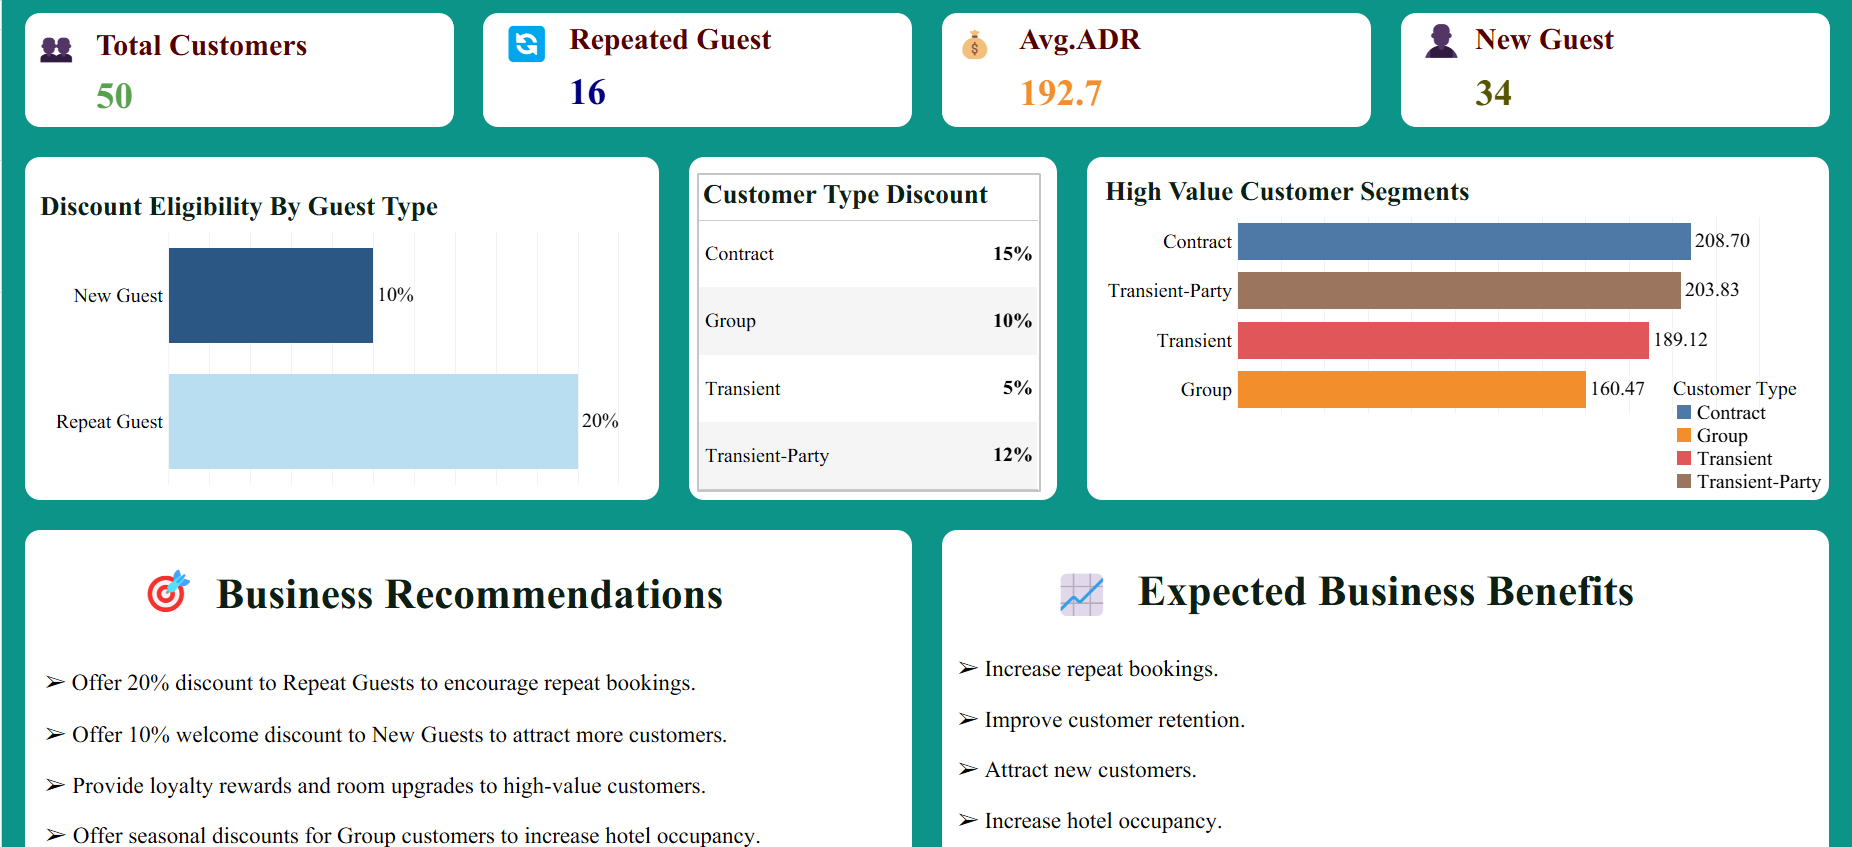

Layout of this report page (visuals, bound fields, positions):
{"tool":"tableau","page":{"name":"Dashboard 2","canvas":[1850,1050],"ordinal":1},"visuals":[{"type":"blank","box":[8,8,473,137]},{"type":"blank","box":[481,8,444,137]},{"type":"blank","box":[925,8,458.5,137]},{"type":"blank","box":[1383.5,8,458.5,137]},{"type":"worksheet","title":"New Guest","mark":"Automatic","box":[1037,33,317,86]},{"type":"text","box":[516,34,100,50]},{"type":"worksheet","title":"Repeated Guest","mark":"Automatic","box":[577,34,256,79]},{"type":"text","box":[967,34,100,50]},{"type":"text","box":[1416,34,100,50]},{"type":"worksheet","title":"Avg.ADR","mark":"Automatic","box":[1488,35,234,78]},{"type":"text","box":[40,37,100,50]},{"type":"worksheet","title":"Total Customers","mark":"Automatic","box":[110,38,329,78]},{"type":"blank","box":[8,145,458.5,535]},{"type":"blank","box":[466.5,145,388.5,535]},{"type":"blank","box":[855,145,551,535]},{"type":"blank","box":[1406,145,436,535]},{"type":"worksheet","title":"ADR by Customer Type","mark":"Bar","rows":["adr"],"cols":["customer_type"],"box":[884,166,494,488]},{"type":"worksheet","title":"Repeated Guest VS New Guest","mark":"Pie","cols":["Calculation_3089676992122880","Calculation_3089676992122880"],"box":[483,169,345,474]},{"type":"worksheet","title":"Customer Id by Customer Type","mark":"Automatic","rows":["customer_type"],"cols":["customer_id"],"box":[29,174,415,479]},{"type":"worksheet","title":"Top 5 Customers","mark":"Automatic","rows":["customer_name"],"box":[1438,179,378,472]},{"type":"legend","title":"Customer Id by Customer Type","param":"[federated.1m8f3m612l10m31ctnk851wsdk5s].[none:customer_type:nk]","box":[295,557,140,98]},{"type":"legend","title":"Repeated Guest VS New Guest","param":"[federated.1m8f3m612l10m31ctnk851wsdk5s].[none:Calculation_2995668349882368:nk]","box":[644,565,140,75]},{"type":"blank","box":[8,680,917,362]},{"type":"blank","box":[925,680,917,362]},{"type":"worksheet","title":"Customers by country ","mark":"Automatic","box":[41,701,857,319]},{"type":"worksheet","title":"Country Wise Bookings","mark":"Automatic","rows":["country"],"cols":["booking_id"],"box":[945,706,755,312]},{"type":"legend","title":"Country Wise Bookings","param":"[federated.1m8f3m612l10m31ctnk851wsdk5s].[none:country:nk]","box":[1678,709,140,238]},{"type":"legend","title":"Customers by country ","param":"[federated.1m8f3m612l10m31ctnk851wsdk5s].[cnt:customer_id:qk]","box":[728,936,163,72]}]}

Visuals, with their boxes on the page's 1850x1050 design canvas (x1, y1, x2, y2). These are canvas units, not pixel positions in the 1852x847 screenshot, which may show the page scaled, cropped or inside an application window:
blank: x1=8 y1=8 x2=481 y2=145
blank: x1=481 y1=8 x2=925 y2=145
blank: x1=925 y1=8 x2=1384 y2=145
blank: x1=1384 y1=8 x2=1842 y2=145
"New Guest" worksheet: x1=1037 y1=33 x2=1354 y2=119
text: x1=516 y1=34 x2=616 y2=84
"Repeated Guest" worksheet: x1=577 y1=34 x2=833 y2=113
text: x1=967 y1=34 x2=1067 y2=84
text: x1=1416 y1=34 x2=1516 y2=84
"Avg.ADR" worksheet: x1=1488 y1=35 x2=1722 y2=113
text: x1=40 y1=37 x2=140 y2=87
"Total Customers" worksheet: x1=110 y1=38 x2=439 y2=116
blank: x1=8 y1=145 x2=466 y2=680
blank: x1=466 y1=145 x2=855 y2=680
blank: x1=855 y1=145 x2=1406 y2=680
blank: x1=1406 y1=145 x2=1842 y2=680
"ADR by Customer Type" worksheet (Bar marks): x1=884 y1=166 x2=1378 y2=654
"Repeated Guest VS New Guest" worksheet (Pie marks): x1=483 y1=169 x2=828 y2=643
"Customer Id by Customer Type" worksheet: x1=29 y1=174 x2=444 y2=653
"Top 5 Customers" worksheet: x1=1438 y1=179 x2=1816 y2=651
"Customer Id by Customer Type" legend: x1=295 y1=557 x2=435 y2=655
"Repeated Guest VS New Guest" legend: x1=644 y1=565 x2=784 y2=640
blank: x1=8 y1=680 x2=925 y2=1042
blank: x1=925 y1=680 x2=1842 y2=1042
"Customers by country " worksheet: x1=41 y1=701 x2=898 y2=1020
"Country Wise Bookings" worksheet: x1=945 y1=706 x2=1700 y2=1018
"Country Wise Bookings" legend: x1=1678 y1=709 x2=1818 y2=947
"Customers by country " legend: x1=728 y1=936 x2=891 y2=1008
